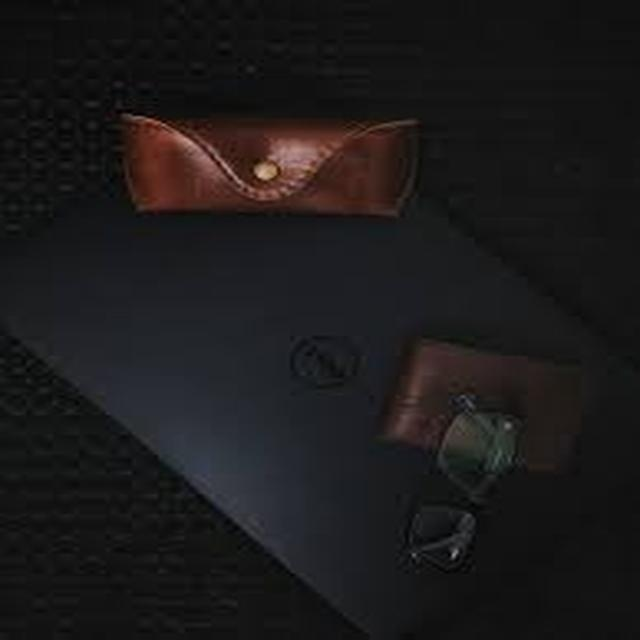wallet: (80, 70, 466, 241), (347, 318, 614, 528)
